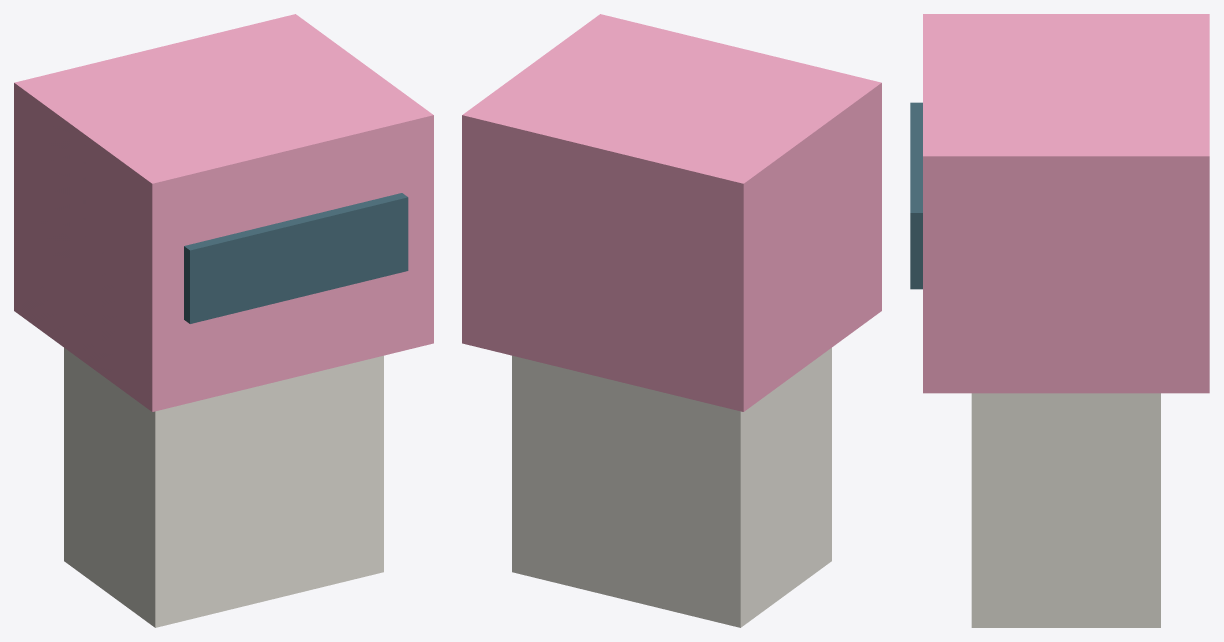
Rendered from sample-driver.gltf.
3 renders of one model, left to right at view 1: azimuth 30°, elevation 25°; view 2: azimuth 150°, elevation 25°; view 3: azimuth 270°, elevation 25°, orthographic. The views are drawn at different scales.
Visible parts, largest first — view 1: Sample Robot Driver; view 2: Sample Robot Driver; view 3: Sample Robot Driver.
Part boxes in pixels (<box>): Sample Robot Driver: <box>14,14,433,627</box>; Sample Robot Driver: <box>462,14,881,627</box>; Sample Robot Driver: <box>910,14,1209,627</box>.
Size of the model in its own units: 0.8 by 1.27 by 0.71.
